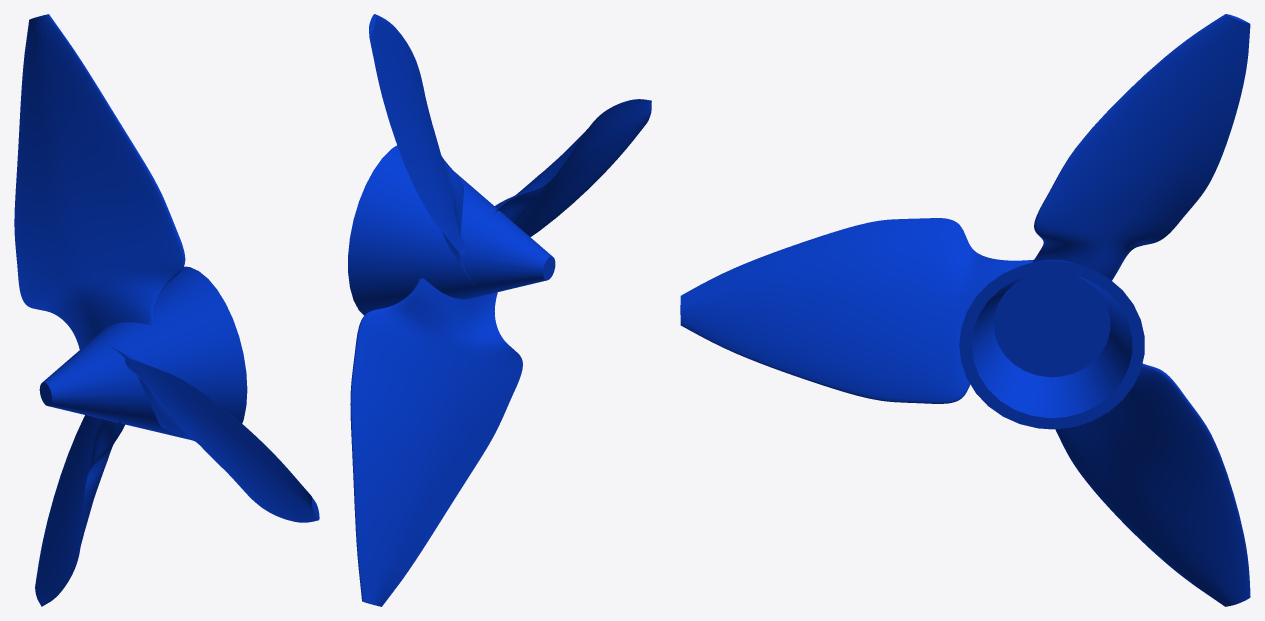
The model's file is PROP.gltf.
3 renders of one model, left to right at view 1: azimuth 30°, elevation 25°; view 2: azimuth 150°, elevation 25°; view 3: azimuth 270°, elevation 25°, orthographic.
Visible parts, largest first — view 1: PROP; view 2: PROP; view 3: PROP.
Part boxes in pixels (left/top/right/bottom): PROP: left=14, top=14, right=319, bottom=606; PROP: left=348, top=14, right=651, bottom=606; PROP: left=680, top=14, right=1250, bottom=606.
Bounding box in the file's own units: 0.0927 × 0.3371 × 0.2921.
